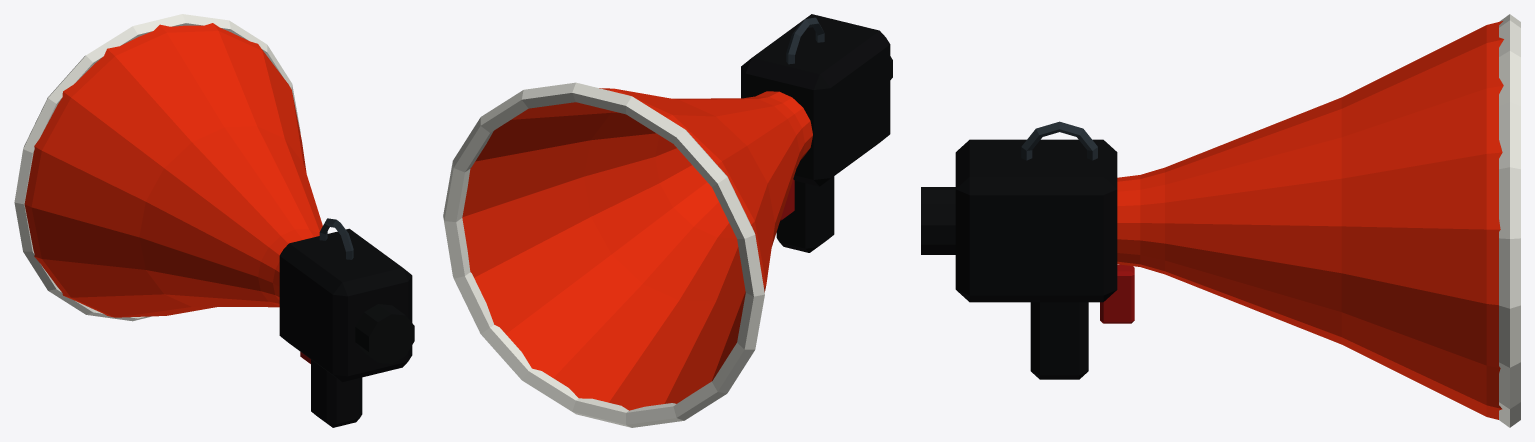
Rendered from RESCUE_05_Megaphone.obj.
The picture shows the model from 3 angles, left to right: view 1: azimuth 30°, elevation 25°; view 2: azimuth 150°, elevation 25°; view 3: azimuth 270°, elevation 25°; orthographic projection. The views are drawn at different scales.
Parts seen in each view (by area): view 1: RESCUE_05_Megaphone_Horn, RESCUE_05_Megaphone_Body, RESCUE_05_Megaphone_Rim, RESCUE_05_Megaphone_Mic_Port, RESCUE_05_Megaphone_Handle, RESCUE_05_Megaphone_Strap_Loop; view 2: RESCUE_05_Megaphone_Horn, RESCUE_05_Megaphone_Rim, RESCUE_05_Megaphone_Body, RESCUE_05_Megaphone_Handle, RESCUE_05_Megaphone_Strap_Loop; view 3: RESCUE_05_Megaphone_Horn, RESCUE_05_Megaphone_Body, RESCUE_05_Megaphone_Rim, RESCUE_05_Megaphone_Handle, RESCUE_05_Megaphone_Mic_Port, RESCUE_05_Megaphone_Trigger, RESCUE_05_Megaphone_Strap_Loop.
Part boxes in pixels (x1,y1,x2,y2): RESCUE_05_Megaphone_Horn: [24, 23, 322, 317]; RESCUE_05_Megaphone_Body: [279, 228, 412, 382]; RESCUE_05_Megaphone_Rim: [14, 14, 300, 321]; RESCUE_05_Megaphone_Mic_Port: [355, 304, 414, 363]; RESCUE_05_Megaphone_Handle: [311, 359, 362, 427]; RESCUE_05_Megaphone_Strap_Loop: [319, 218, 353, 259]; RESCUE_05_Megaphone_Horn: [462, 88, 812, 410]; RESCUE_05_Megaphone_Rim: [443, 82, 764, 427]; RESCUE_05_Megaphone_Body: [741, 14, 890, 186]; RESCUE_05_Megaphone_Handle: [776, 176, 834, 252]; RESCUE_05_Megaphone_Strap_Loop: [786, 17, 824, 64]; RESCUE_05_Megaphone_Horn: [1117, 21, 1503, 419]; RESCUE_05_Megaphone_Body: [955, 139, 1117, 302]; RESCUE_05_Megaphone_Rim: [1499, 14, 1520, 427]; RESCUE_05_Megaphone_Handle: [1030, 302, 1088, 379]; RESCUE_05_Megaphone_Mic_Port: [921, 187, 955, 254]; RESCUE_05_Megaphone_Trigger: [1100, 264, 1134, 323]; RESCUE_05_Megaphone_Strap_Loop: [1021, 121, 1097, 160].
Bounding box in the file's own units: 0.36 × 0.3545 × 0.5195.
